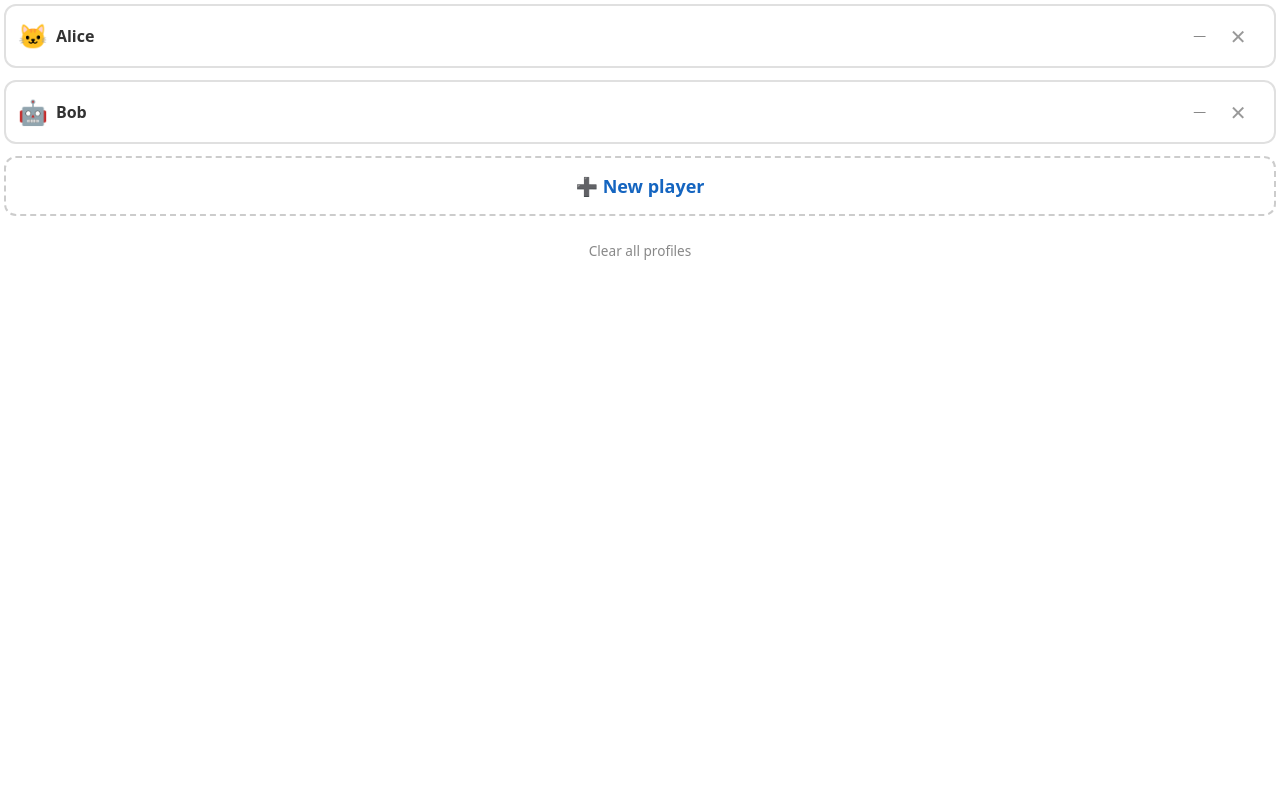
it: PlayerList › shows ClearAllConfirmation dialog when clear-all button is clicked
This screenshot has width=1280, height=800.
Click the button "Clear all profiles". click: coordinates (640, 250)
box: [4, 228, 1276, 272]
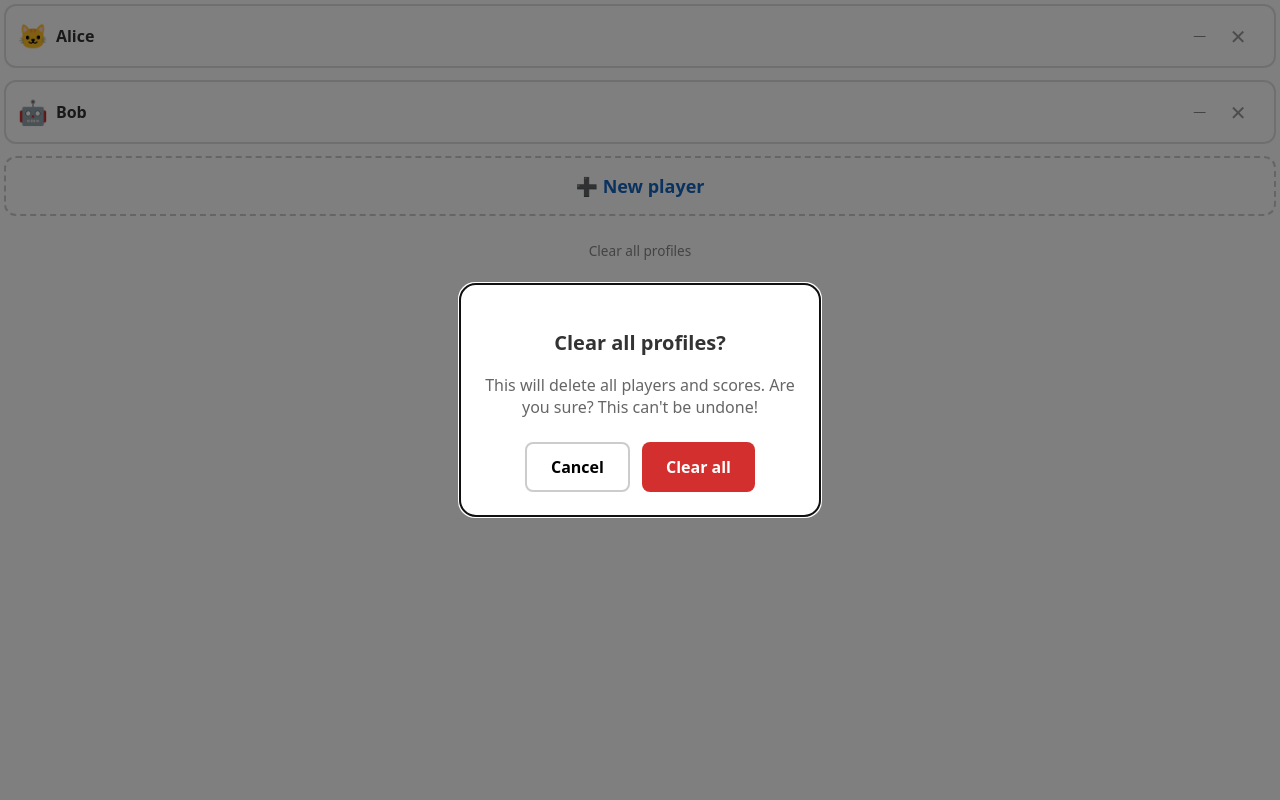
Result: the dialog "Clear all profiles" is shown at [460, 284, 820, 516]
